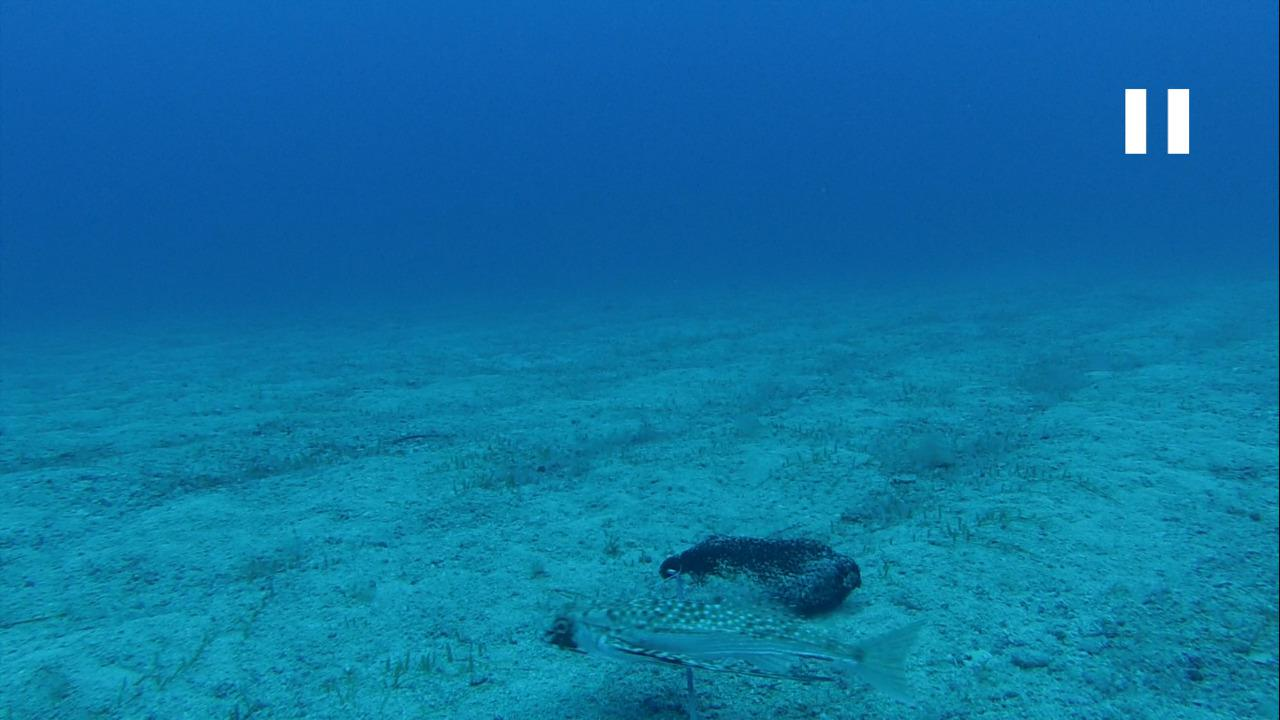dactylopterus: (533, 584, 923, 709)
